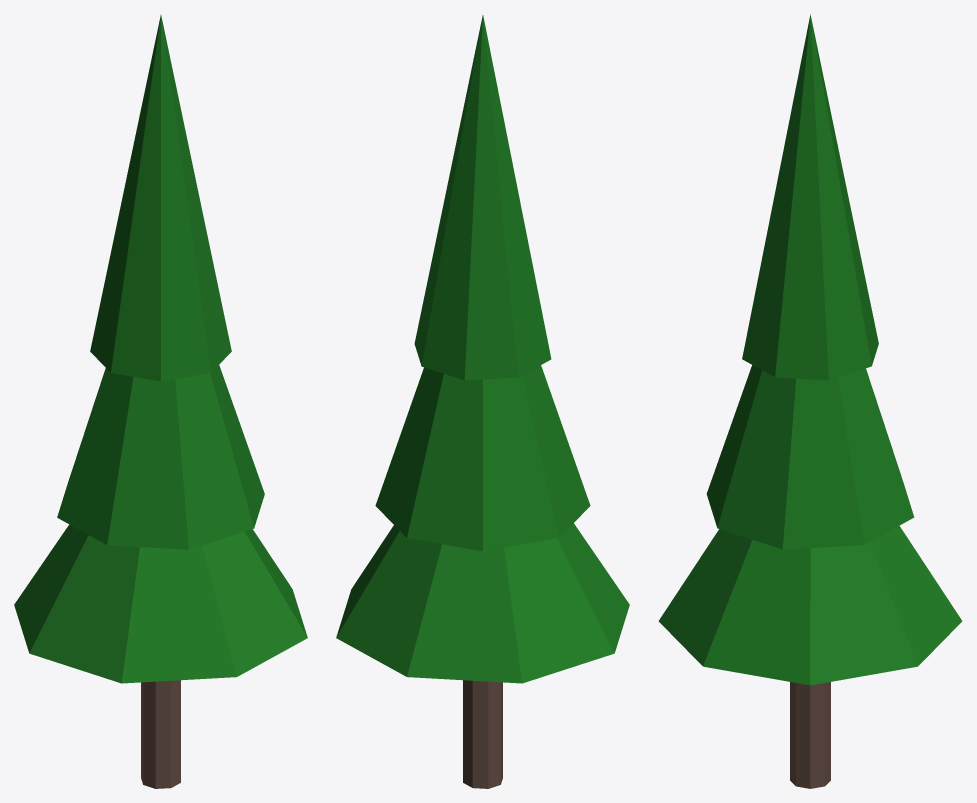
Rendered from pinetree3.fbx.
3 renders of one model, left to right at view 1: azimuth 30°, elevation 25°; view 2: azimuth 150°, elevation 25°; view 3: azimuth 270°, elevation 25°, orthographic.
Parts seen in each view (by area): view 1: sapin3; view 2: sapin3; view 3: sapin3.
Part boxes in pixels (x1,y1,x2,y2): sapin3: [14, 15, 307, 788]; sapin3: [336, 15, 629, 788]; sapin3: [658, 14, 962, 788].
Bounding box in the file's own units: 121 × 336 × 121.
